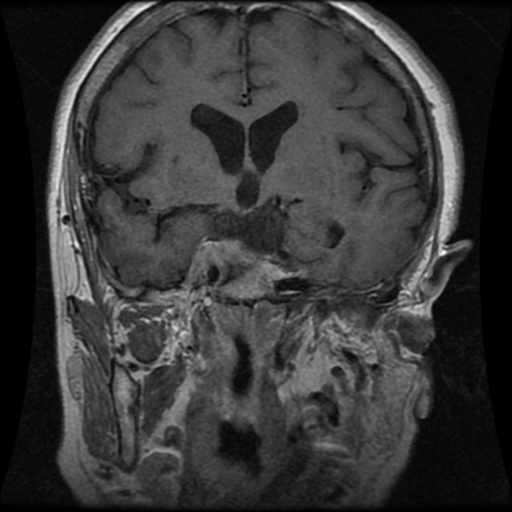pituitary: (183, 239, 287, 297)
